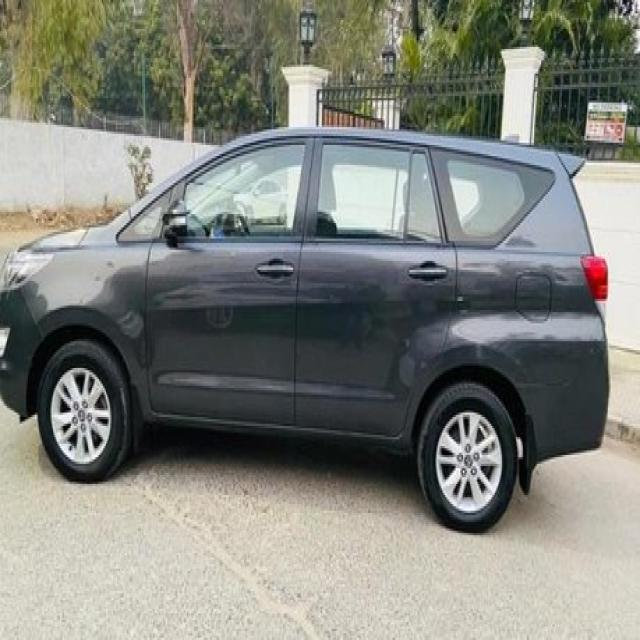light_vehicle: (0, 126, 612, 532)
